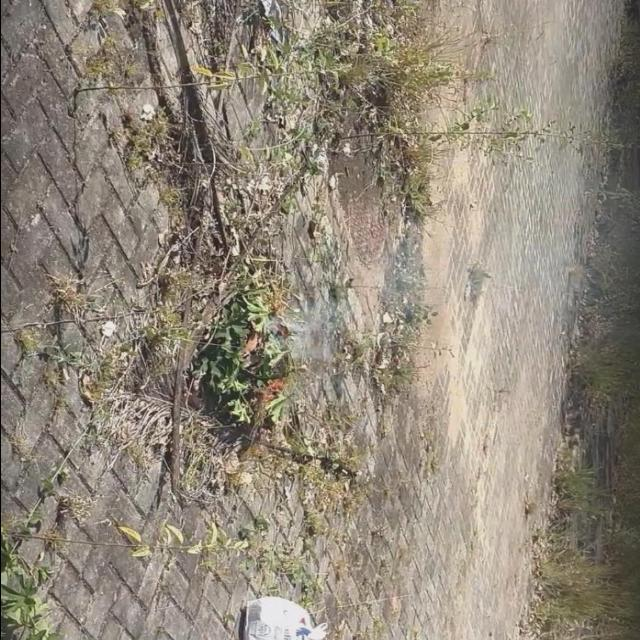Fire: (258, 376, 298, 408)
